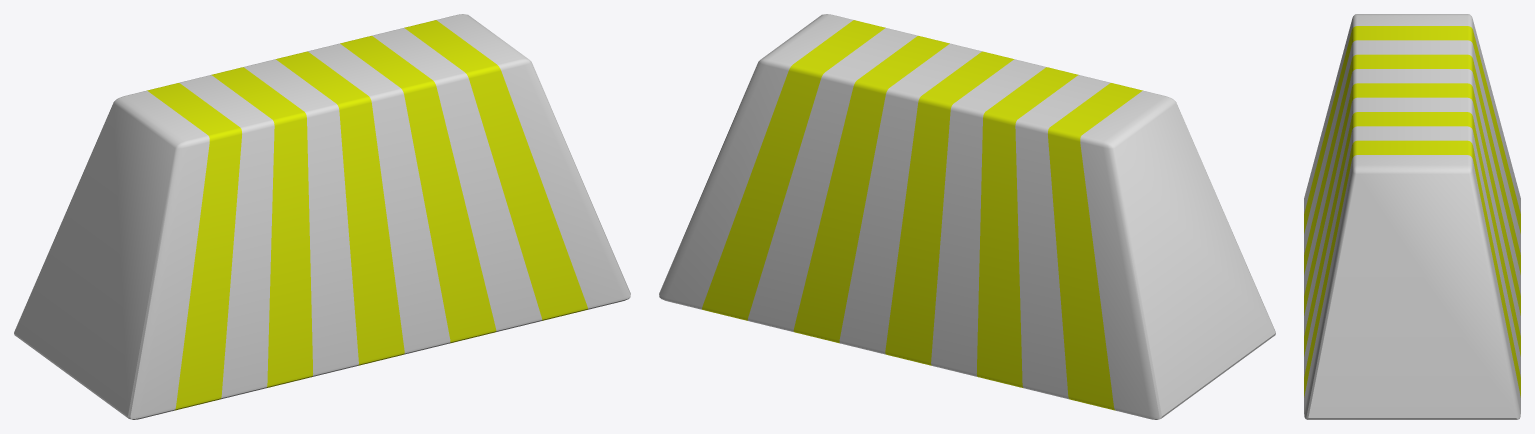
The model's file is BlocoTransito.fbx.
3 views of the same model, side by side, from view 1: azimuth 30°, elevation 25°; view 2: azimuth 150°, elevation 25°; view 3: azimuth 270°, elevation 25° (orthographic). The views are drawn at different scales.
Parts seen in each view (by area): view 1: Bloco Transito; view 2: Bloco Transito; view 3: Bloco Transito.
Part boxes in pixels (x1,y1,x2,y2): Bloco Transito: (14,14,630,419); Bloco Transito: (659,14,1275,419); Bloco Transito: (1304,14,1520,419).
Size of the model in its own units: 1.99 by 0.9072 by 0.8118.
